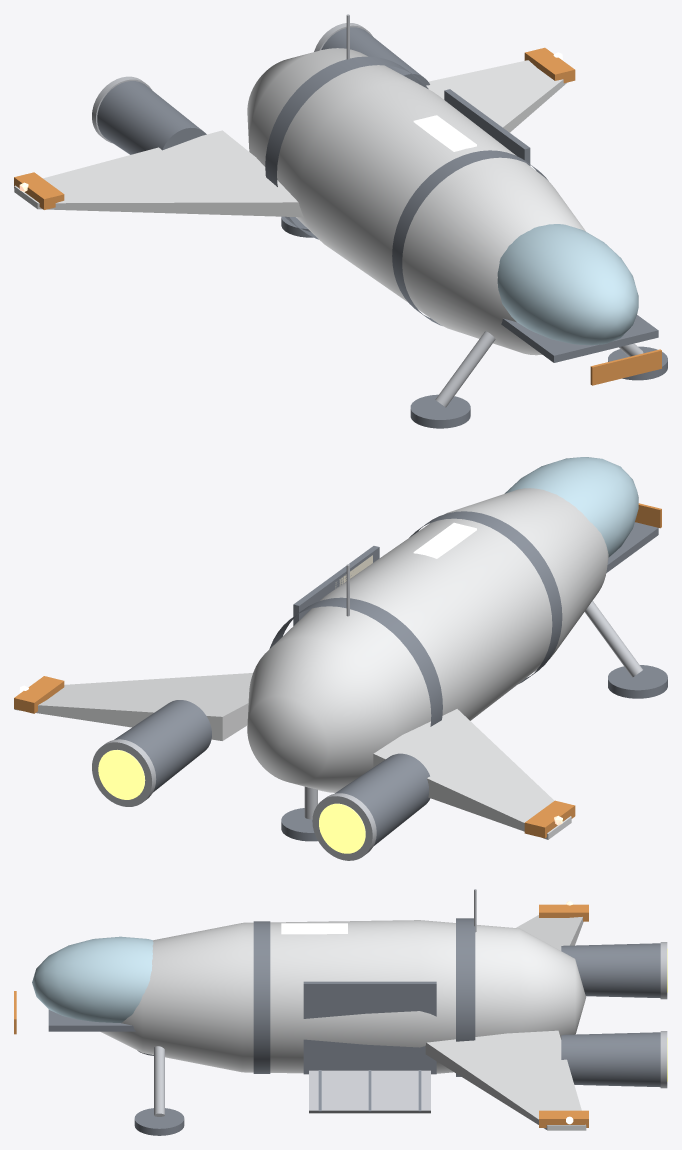
Rendered from lander.fbx.
The picture shows the model from 3 angles, top to bottom: view 1: azimuth 30°, elevation 25°; view 2: azimuth 150°, elevation 25°; view 3: azimuth 270°, elevation 25°; orthographic projection. The views are drawn at different scales.
Visible parts, largest first — view 1: lander; view 2: lander; view 3: lander.
Part boxes in pixels (x1=…): lander: x1=14, y1=14, x2=667, y2=428; lander: x1=14, y1=457, x2=667, y2=860; lander: x1=14, y1=889, x2=667, y2=1135.
Bounding box in the file's own units: 9.34 × 3.9 × 11.8.
